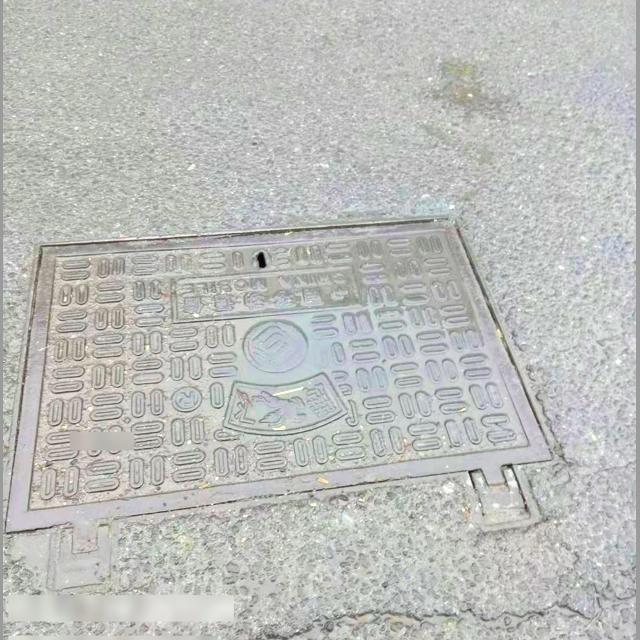good: (18, 236, 539, 493)
